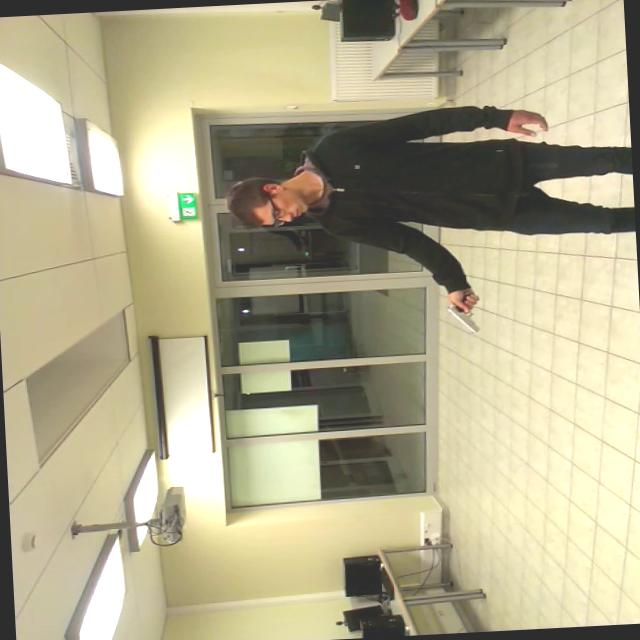handgun: (430, 286, 508, 338)
